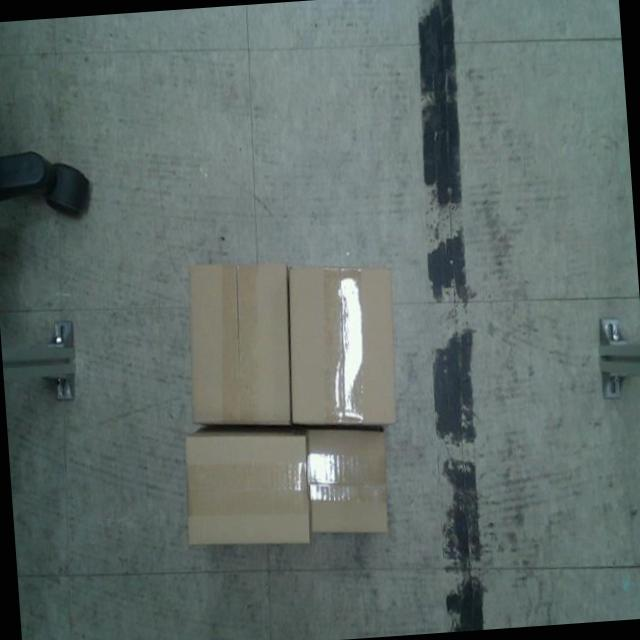box: (179, 253, 298, 432), (280, 259, 400, 431), (175, 424, 320, 548), (304, 424, 395, 540)
